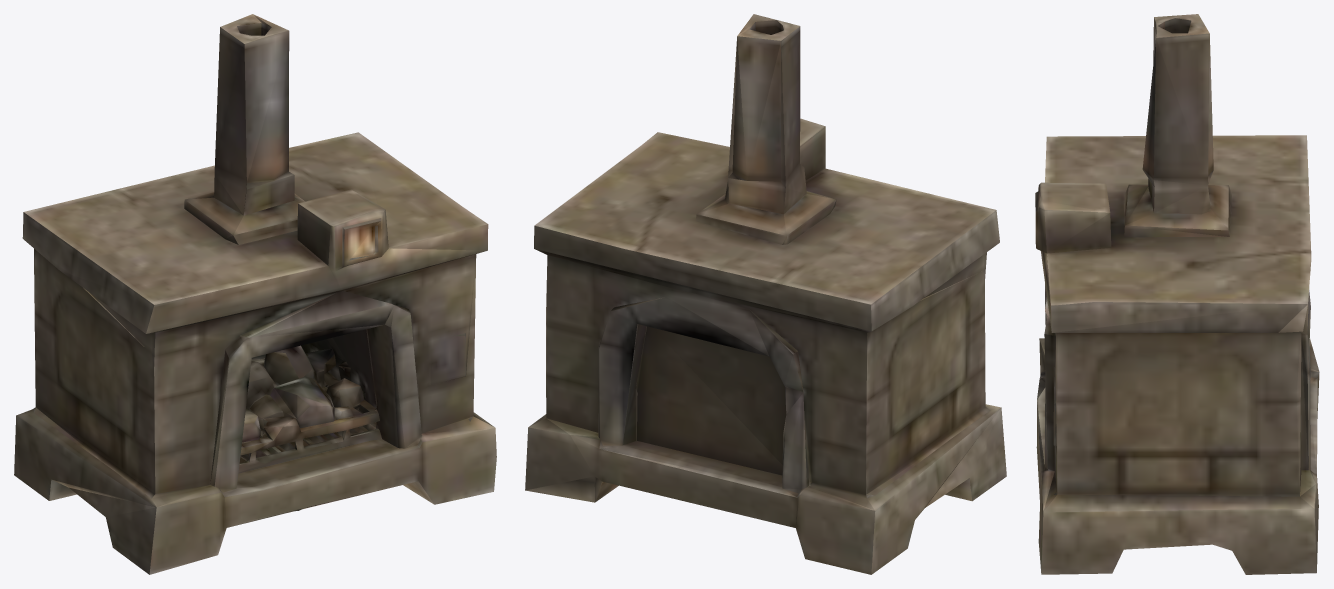
The picture shows the model from 3 angles, left to right: view 1: azimuth 30°, elevation 25°; view 2: azimuth 150°, elevation 25°; view 3: azimuth 270°, elevation 25°; orthographic projection.
Parts seen in each view (by area): view 1: Oven; view 2: Oven; view 3: Oven.
Boxes of the visible parts, left/top/right/bottom form: Oven: left=14, top=14, right=496, bottom=574; Oven: left=525, top=14, right=1006, bottom=574; Oven: left=1035, top=14, right=1319, bottom=574.
Bounding box in the file's own units: 1.54 × 1.91 × 1.06.
1 material, 1 textured.
